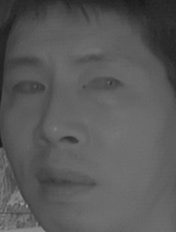eye: (81, 72, 125, 97), (11, 76, 49, 101)
mouth: (31, 163, 97, 203)
